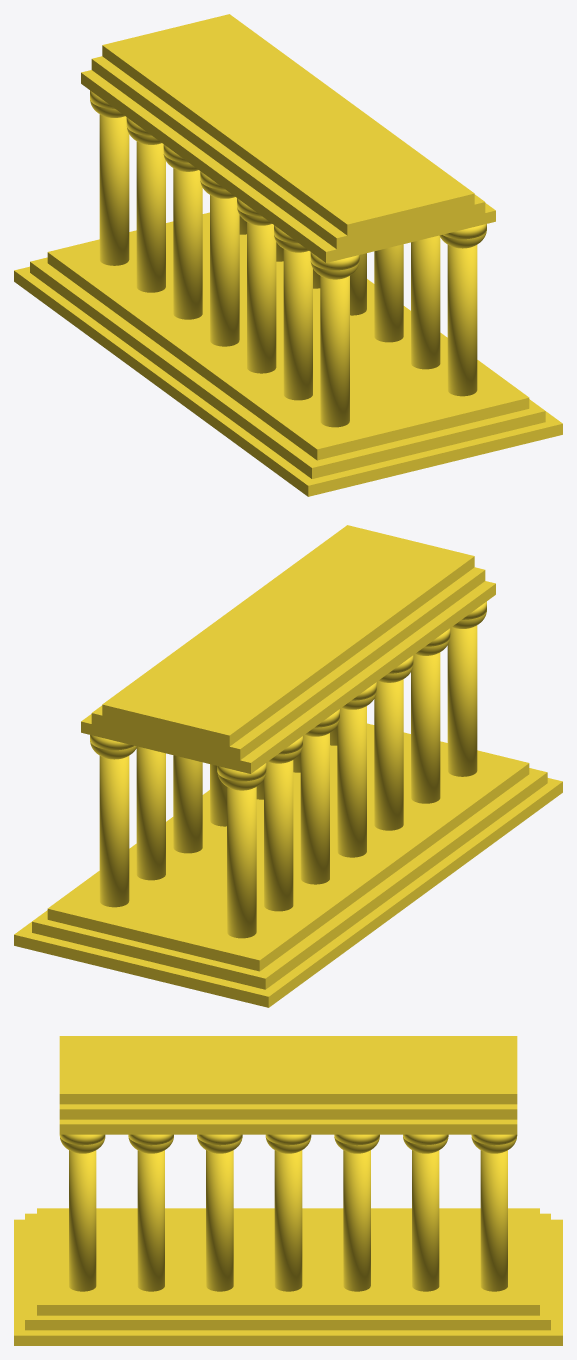
The model's file is openscad_customizable-greek-temple.glb.
The picture shows the model from 3 angles, top to bottom: view 1: azimuth 30°, elevation 25°; view 2: azimuth 150°, elevation 25°; view 3: azimuth 270°, elevation 25°; orthographic projection. The views are drawn at different scales.
Parts seen in each view (by area): view 1: object; view 2: object; view 3: object.
Boxes of the visible parts, left/top/right/bottom form: object: left=14, top=14, right=562, bottom=496; object: left=14, top=525, right=562, bottom=1007; object: left=14, top=1036, right=562, bottom=1345.
Bounding box in the file's own units: 12 × 10.75 × 24.
